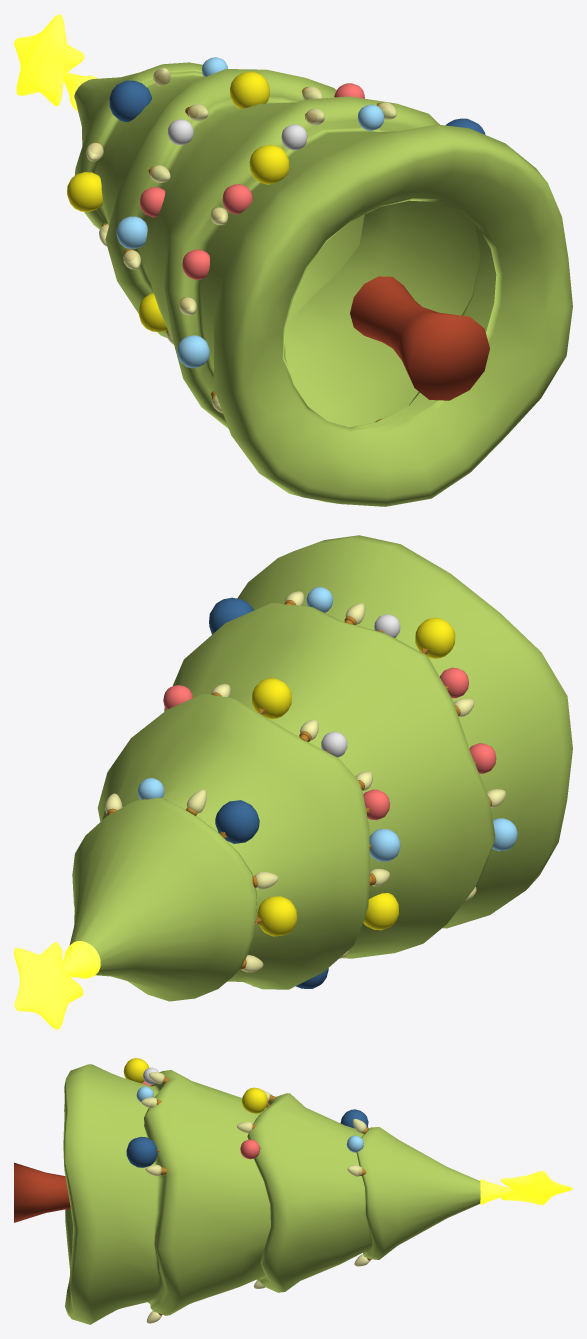
Rendered from Tree.fbx.
3 views of the same model, one above another, from view 1: azimuth 30°, elevation 25°; view 2: azimuth 150°, elevation 25°; view 3: azimuth 270°, elevation 25° (orthographic). The views are drawn at different scales.
Parts seen in each view (by area): view 1: ChrismasTree.001; view 2: ChrismasTree.001; view 3: ChrismasTree.001.
Boxes of the visible parts, x1,y1,x2,y2 form: ChrismasTree.001: (14,14,572,506); ChrismasTree.001: (14,535,572,1029); ChrismasTree.001: (14,1058,572,1324).
Size of the model in its own units: 1.46 by 1.45 by 3.07.
Materials: 14 (1 with a texture image).
